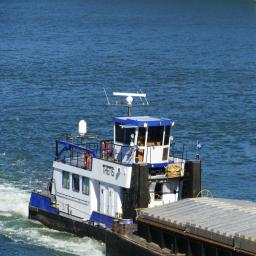tugboat: (29, 89, 203, 252)
